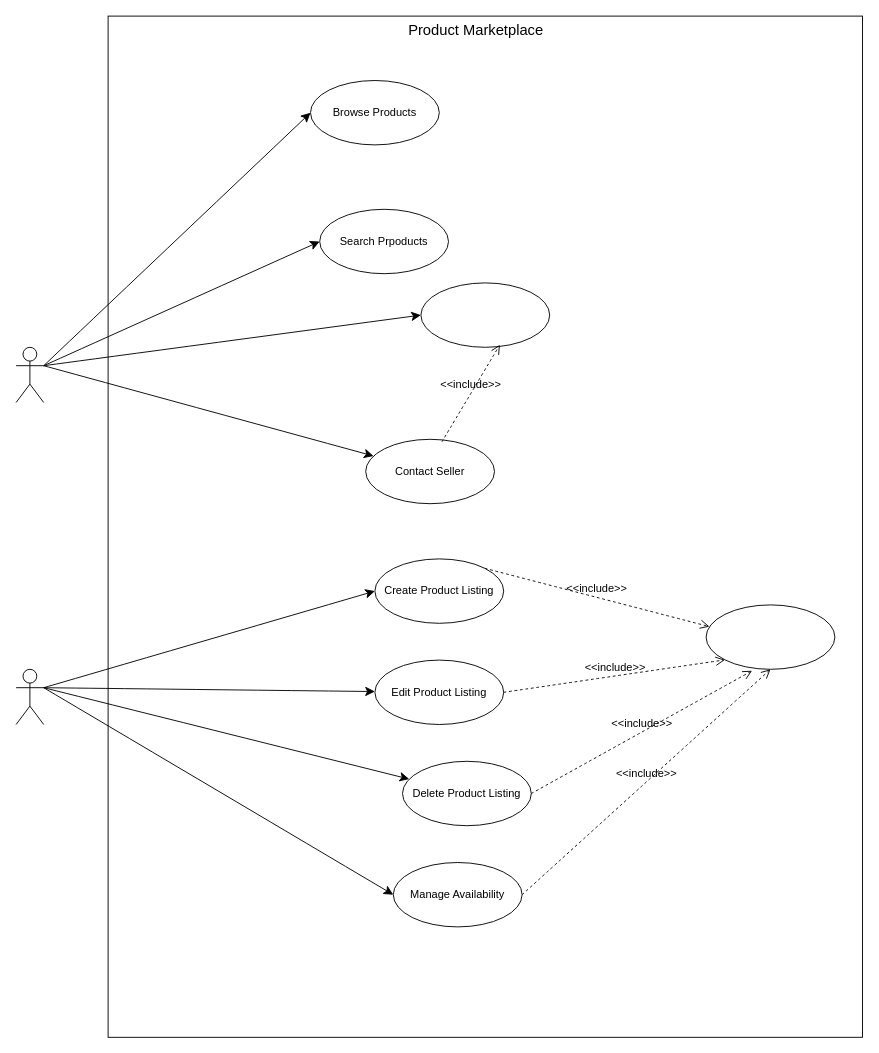
Some shapes in this 879 by 1053 pixel diagram are drawn without their labels. Here are the shapes that lost their labels. From the top down, the box of each, then its label:
(420, 282, 550, 347): View Product Details
(15, 346, 44, 402): Buyer
(705, 604, 835, 669): Login
(15, 668, 44, 724): Seller
